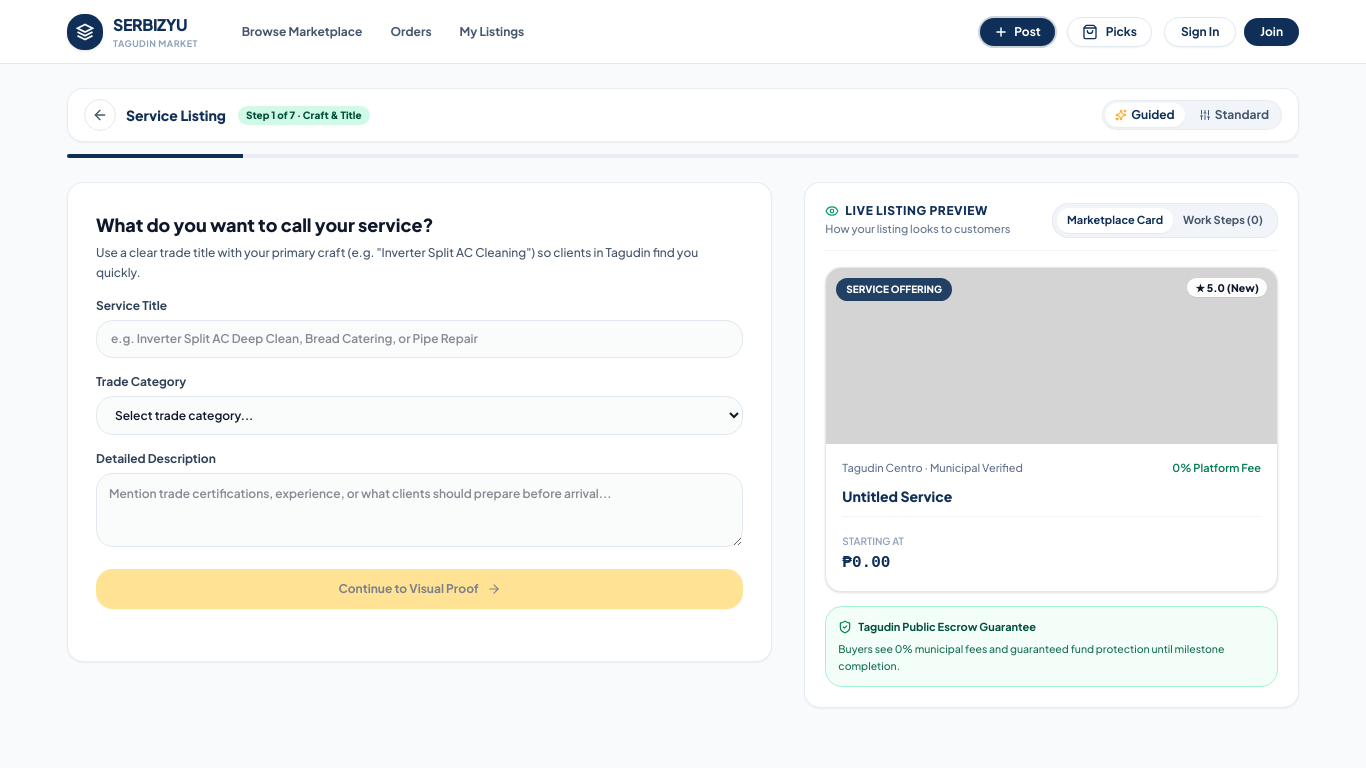
Test case: CreateService Component — Granular Guided & Standard Modes › advances from Step 1 to Step 2 when title is provided
Expected: the button "Continue to Visual Proof" is disabled, [96,569,743,609]
Note: Enter service title
Replace the text in the field with placeholder "e.g. Inverter Split AC Deep Clean" with "Inverter Split AC Cleaning" at (420, 339), box [96,320,743,358]
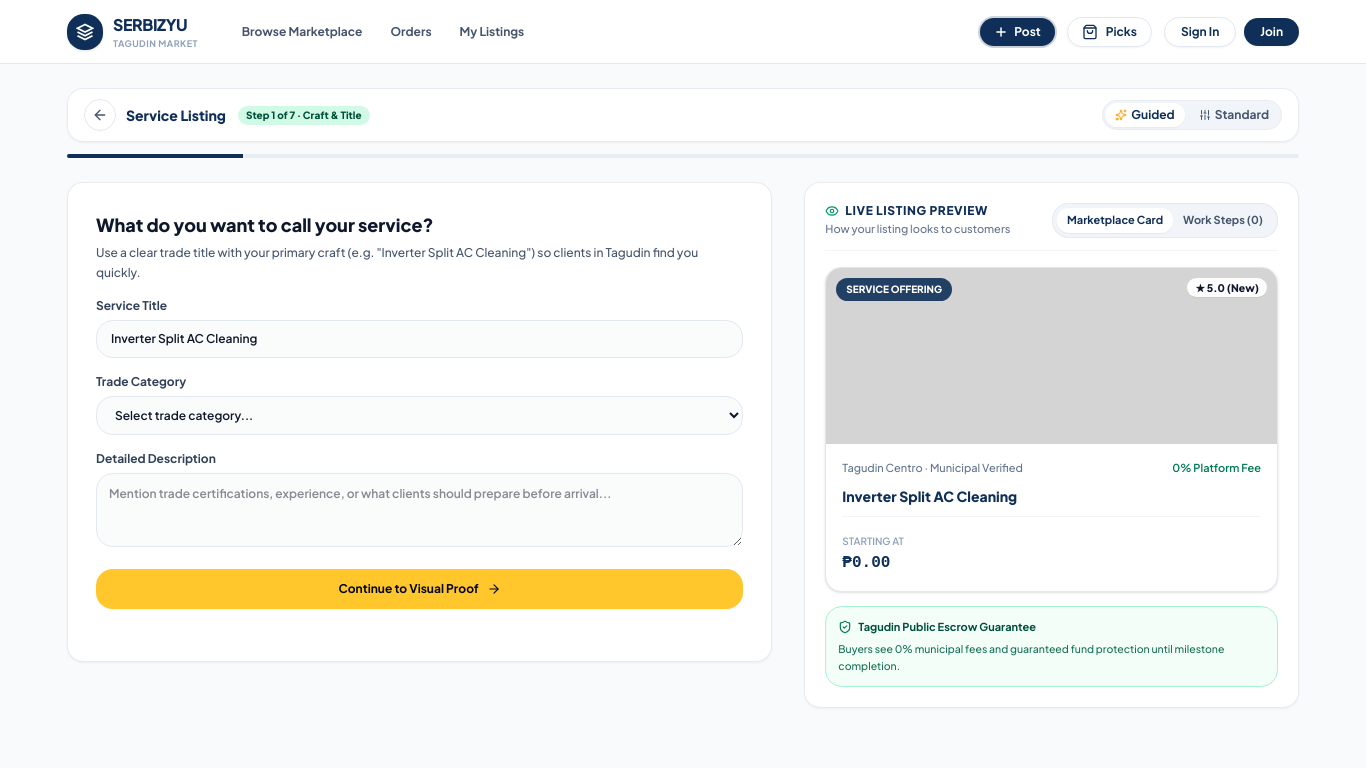
Note: Click continue
Click the button "Continue to Visual Proof" at (420, 589), box [96,569,743,609]
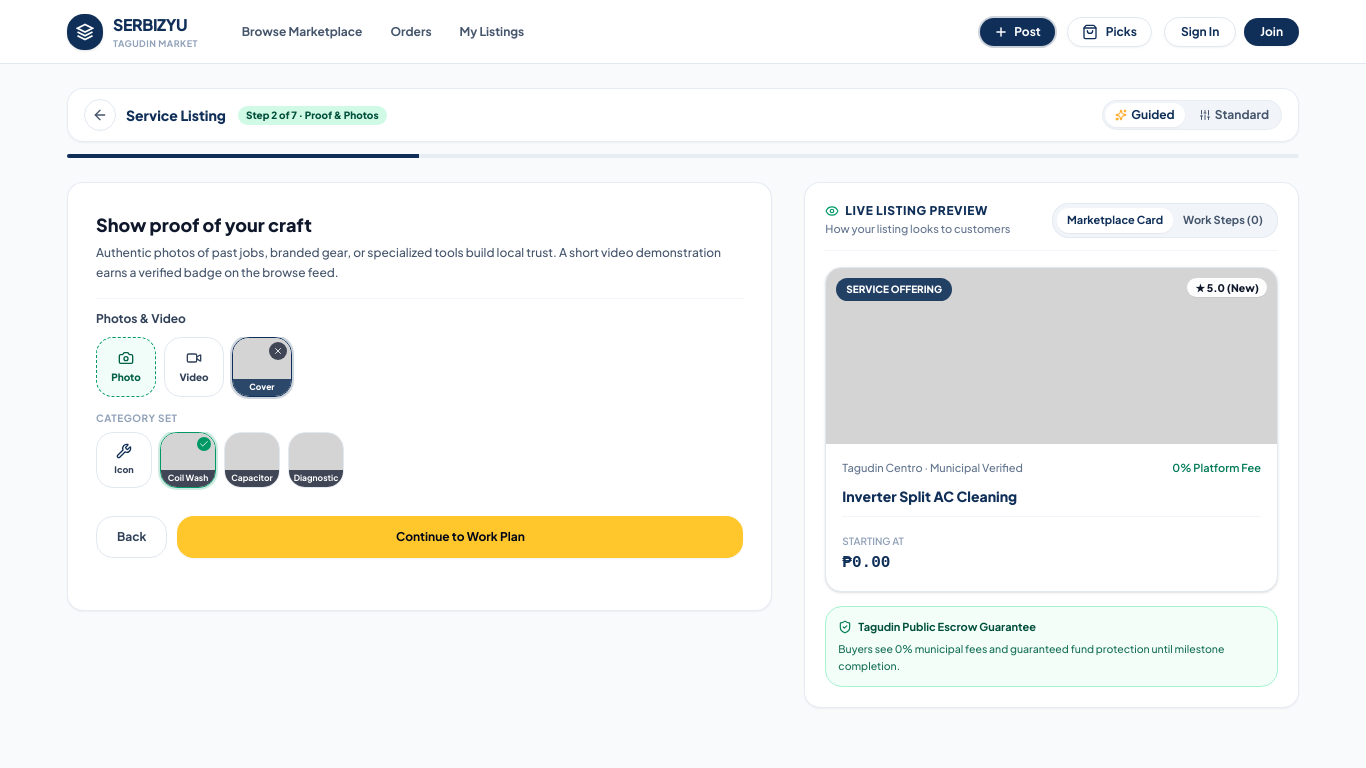
Now the text "Step 2 of 7 · Proof & Photos" is shown, box [238,106,386,124]
Now the heading "Show proof of your craft" is shown, box [96,213,312,236]
Now the button "Continue to Work Plan" is shown, box [178,516,743,558]
